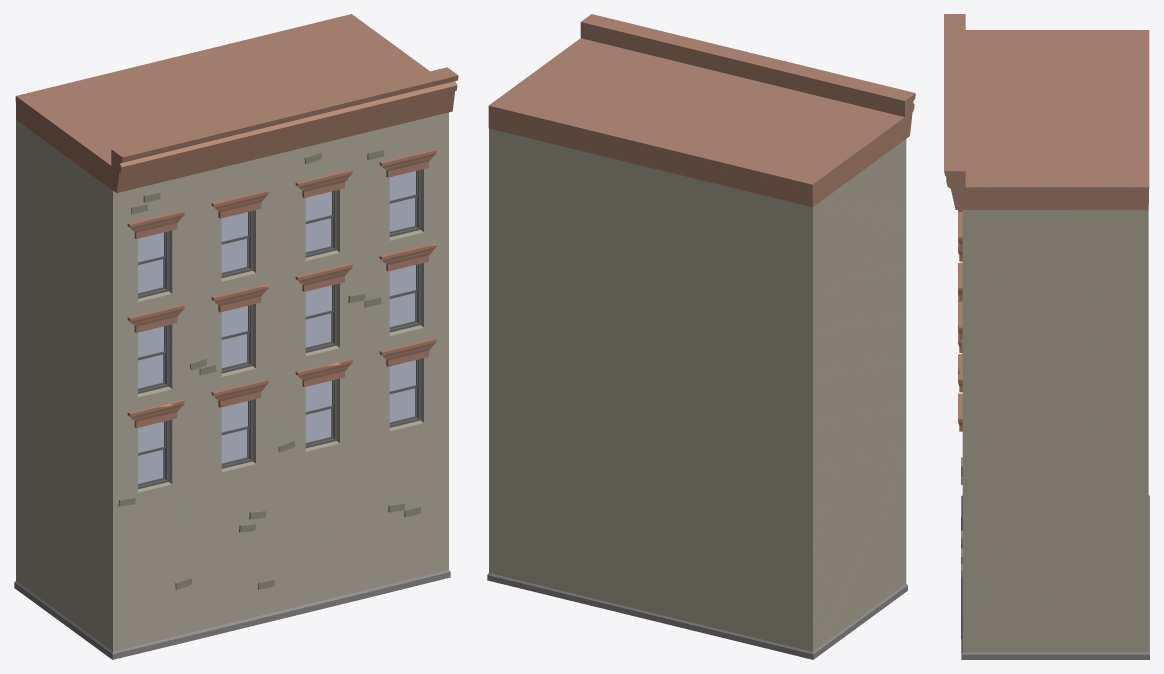
Rendered from building-green-blank.glb.
3 views of the same model, side by side, from view 1: azimuth 30°, elevation 25°; view 2: azimuth 150°, elevation 25°; view 3: azimuth 270°, elevation 25° (orthographic). The views are drawn at different scales.
Visible parts, largest first — view 1: GBBlank; view 2: GBBlank; view 3: GBBlank.
Part boxes in pixels (box(x1,y1,x2,y2)): GBBlank: box(14, 14, 458, 659); GBBlank: box(487, 14, 915, 659); GBBlank: box(944, 14, 1149, 659).
Bounding box in the file's own units: 2.42 × 3.48 × 1.33.
2 materials, 2 textured.
